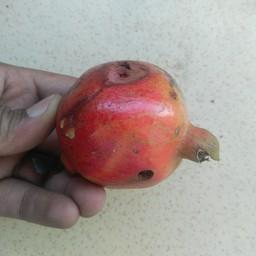Bad_pomegranate: (62, 43, 220, 192)
